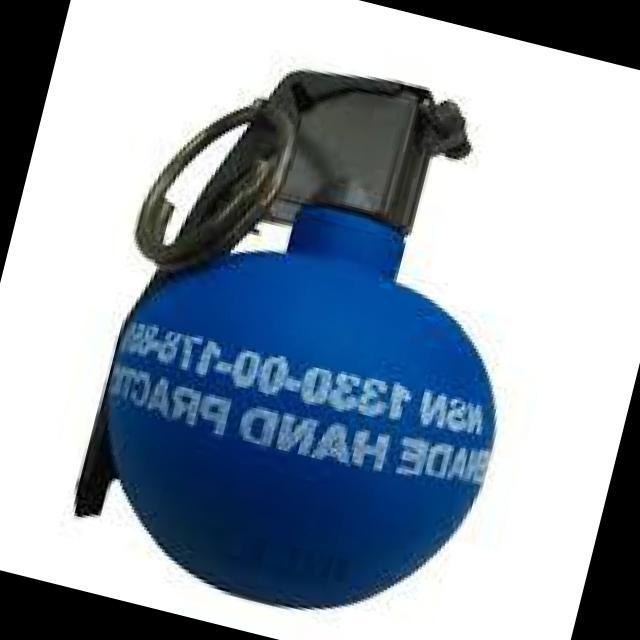grenade: (53, 22, 579, 640)
